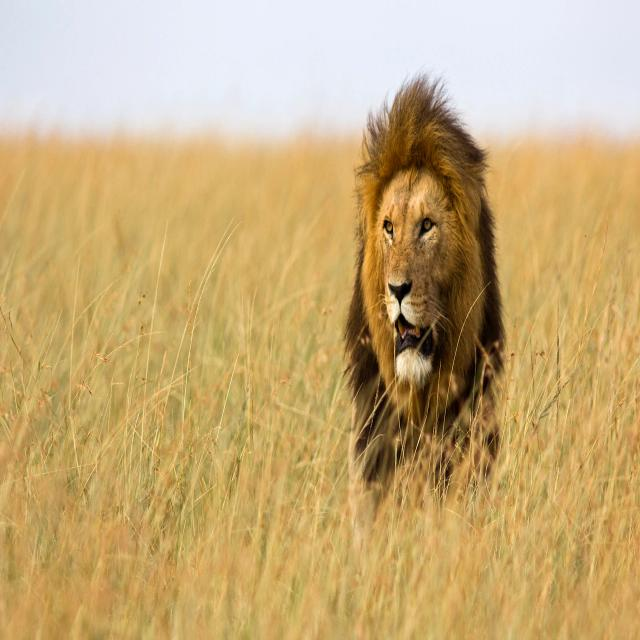Lion: (351, 94, 498, 486)
